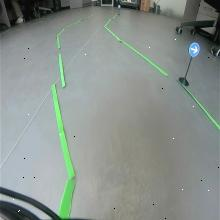right: (188, 41, 201, 59)
